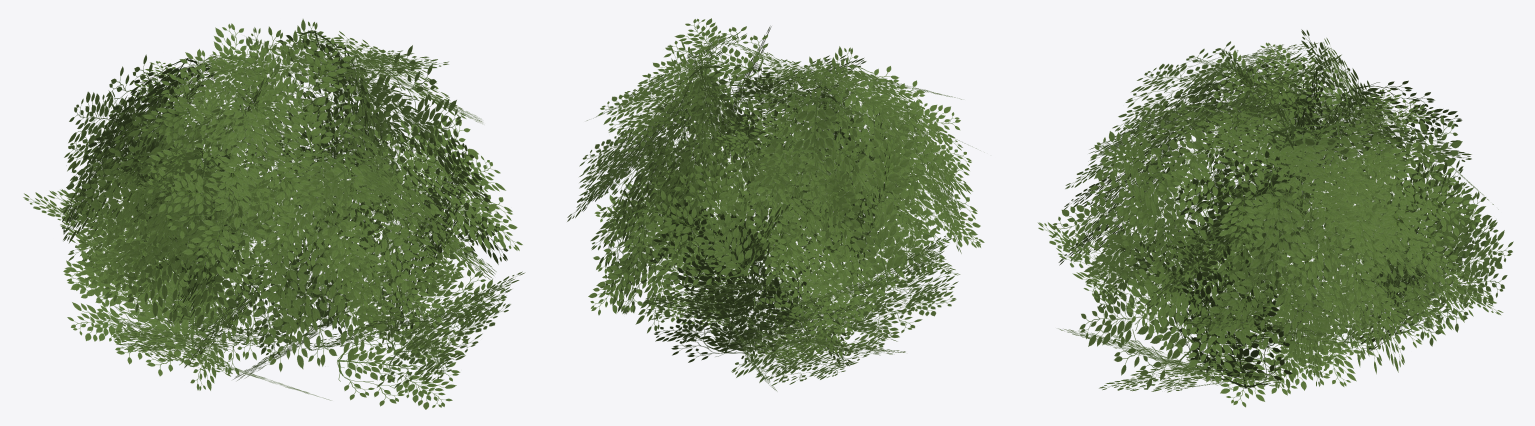
File: bush_round.glb
3 renders of one model, left to right at view 1: azimuth 30°, elevation 25°; view 2: azimuth 150°, elevation 25°; view 3: azimuth 270°, elevation 25°, orthographic. The views are drawn at different scales.
Parts seen in each view (by area): view 1: leaves_w; view 2: leaves_w; view 3: leaves_w.
Part boxes in pixels (x1,y1,x2,y2): leaves_w: (23,19,525,409); leaves_w: (567,18,984,391); leaves_w: (1038,29,1513,407).
Size of the model in its own units: 1.57 by 1.3 by 1.72.
1 material, 1 textured.
